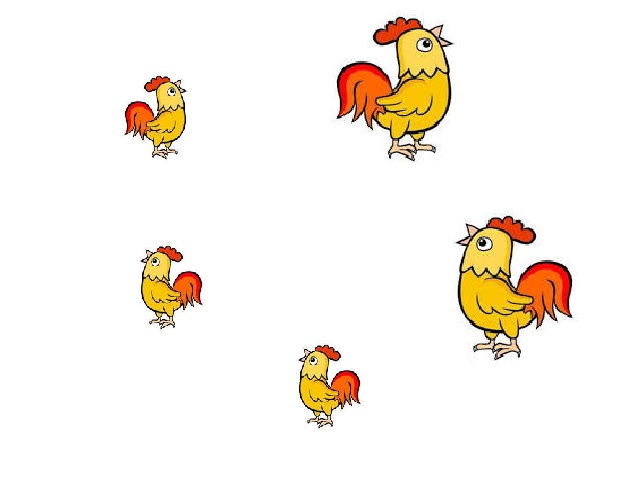crown: (488, 214, 537, 245), (374, 16, 421, 42), (316, 341, 343, 364), (158, 245, 185, 263), (143, 75, 170, 90)
eyes: (476, 235, 494, 253), (415, 38, 433, 50), (308, 356, 319, 367), (150, 257, 162, 267), (168, 88, 179, 98)
feet: (474, 339, 523, 359), (389, 141, 434, 159), (306, 413, 336, 434), (148, 316, 175, 332), (150, 147, 178, 157)
tail: (517, 261, 574, 331), (334, 63, 386, 123), (331, 371, 363, 409), (124, 102, 155, 139), (174, 273, 202, 308)
